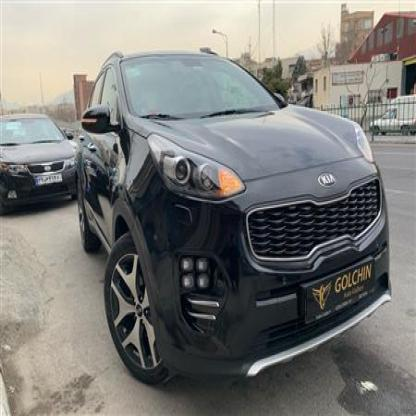Car: (70, 39, 398, 409), (0, 98, 78, 206), (370, 83, 416, 146)
